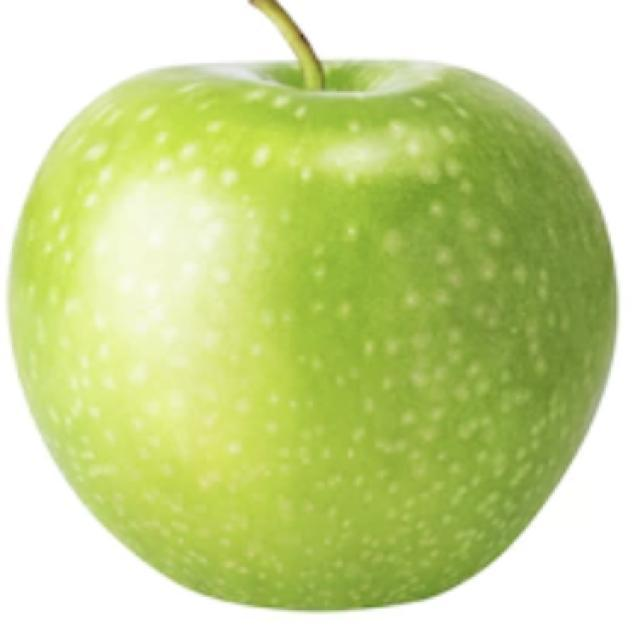Apple: (7, 0, 619, 613)
